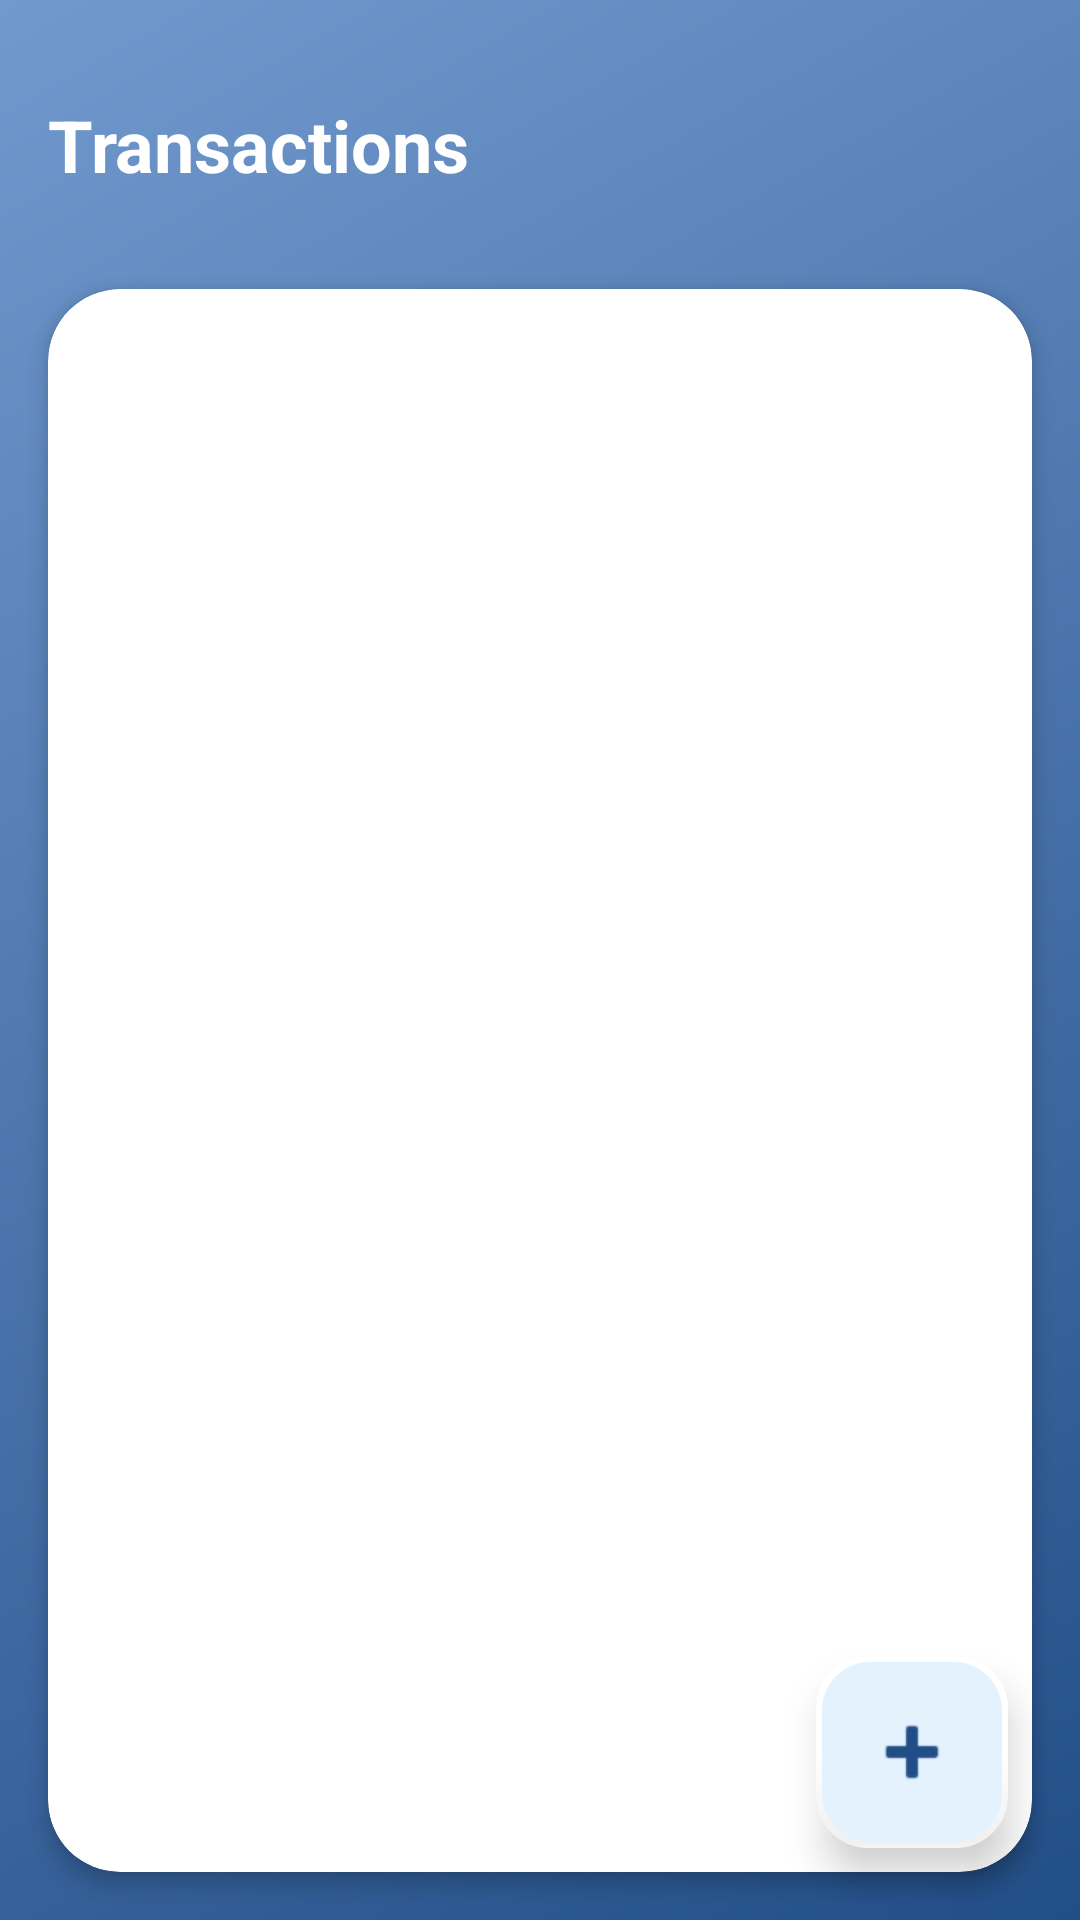

Icons on this 1080x1920 Android screen, each with the point to tap as [x,y]:
Add Transaction: [912,1752]
